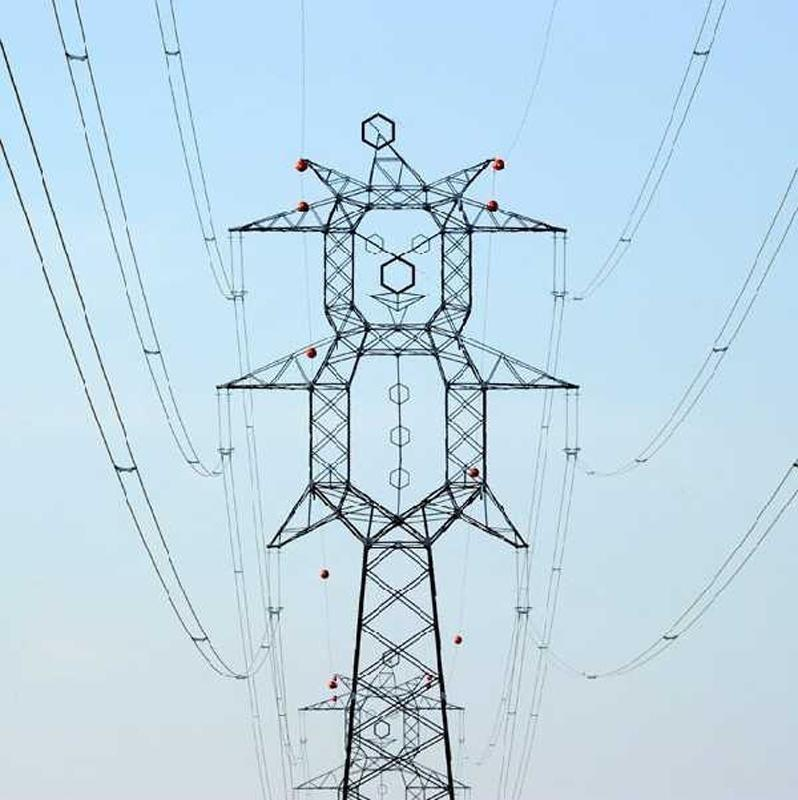power_tower: (214, 109, 580, 799), (285, 649, 478, 800)
